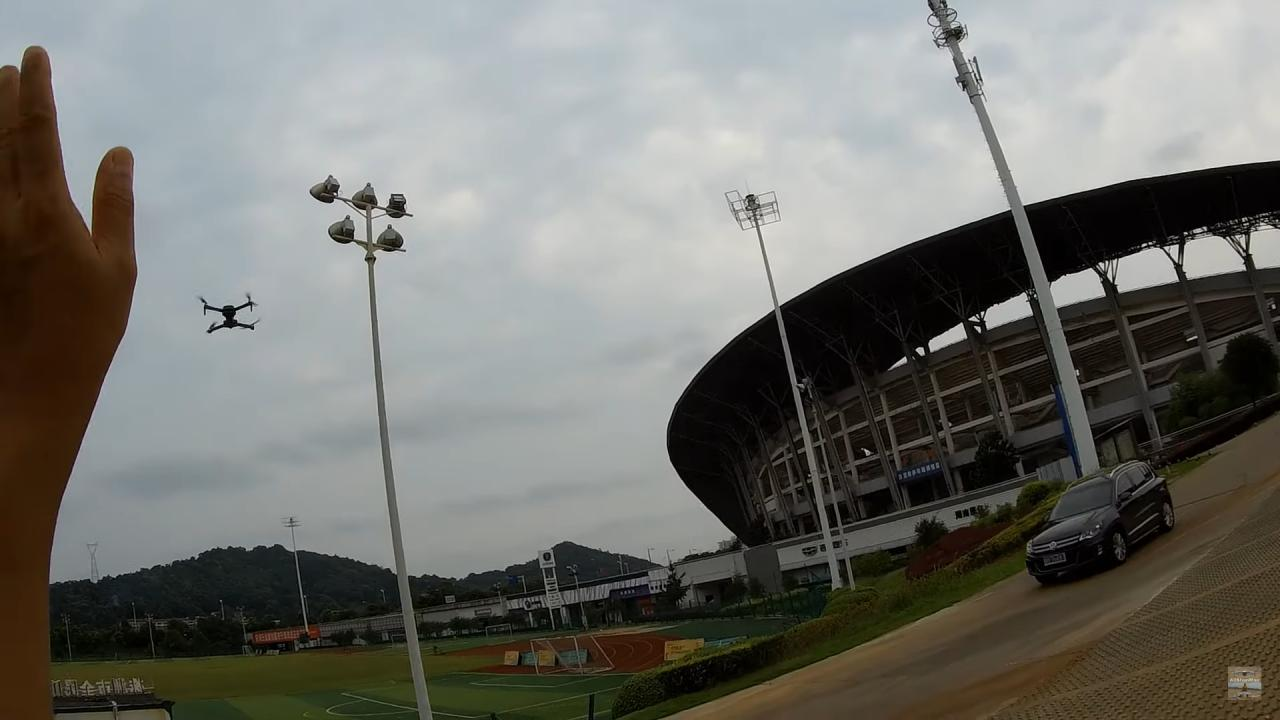Drone: (185, 283, 272, 345)
